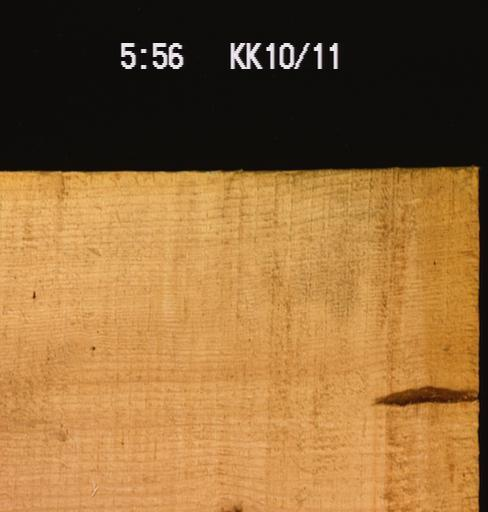edge_knot: (217, 500, 245, 511)
